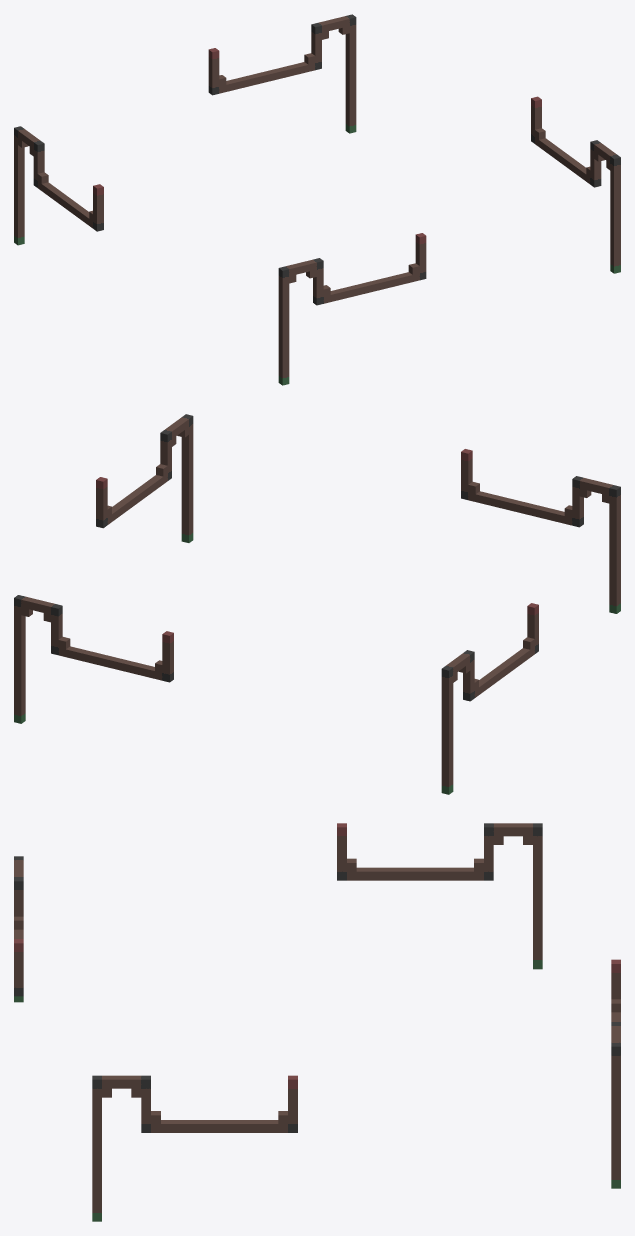
File: pattern_7.glb
3 renders of one model, top to bottom at view 1: azimuth 30°, elevation 25°; view 2: azimuth 150°, elevation 25°; view 3: azimuth 270°, elevation 25°, orthographic. The views are drawn at different scales.
Parts seen in each view (by area): view 1: crate_pattern_7; view 2: crate_pattern_7; view 3: crate_pattern_7.
Boxes of the visible parts, x1,y1,x2,y2 form: crate_pattern_7: (14, 14, 620, 385); crate_pattern_7: (14, 414, 620, 794); crate_pattern_7: (14, 823, 620, 1221).
Size of the model in its own units: 6.2 by 1.6 by 6.2.
Materials: 1 (1 with a texture image).
